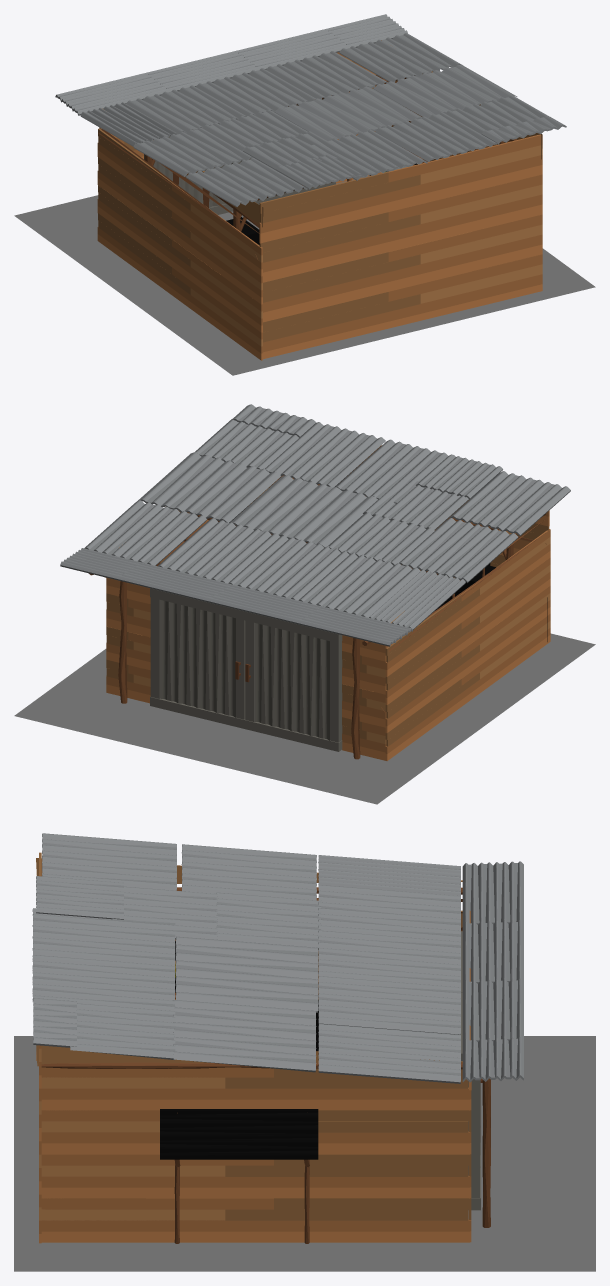
The model's file is bengkeldraft1.fbx.
The picture shows the model from 3 angles, top to bottom: view 1: azimuth 30°, elevation 25°; view 2: azimuth 150°, elevation 25°; view 3: azimuth 270°, elevation 25°; orthographic projection. The views are drawn at different scales.
Visible parts, largest first — view 1: wall, asbes, ground, bambu, pintu kana; view 2: asbes, wall, ground, pintu kana, pintu kiri, bambu; view 3: asbes, wall, ground, bambu2, bambu, pintu kiri.
Part boxes in pixels (x1=…): wall: x1=97, y1=52, x2=542, y2=360; asbes: x1=55, y1=14, x2=566, y2=206; ground: x1=14, y1=175, x2=595, y2=375; bambu: x1=98, y1=40, x2=517, y2=259; pintu kana: x1=144, y1=136, x2=241, y2=214; asbes: x1=60, y1=404, x2=570, y2=646; wall: x1=105, y1=445, x2=550, y2=760; ground: x1=14, y1=633, x2=595, y2=804; pintu kana: x1=244, y1=611, x2=342, y2=751; pintu kiri: x1=150, y1=588, x2=245, y2=728; bambu: x1=89, y1=464, x2=546, y2=759; asbes: x1=32, y1=833, x2=523, y2=1083; wall: x1=36, y1=852, x2=471, y2=1243; ground: x1=14, y1=1036, x2=595, y2=1271; bambu2: x1=160, y1=1109, x2=318, y2=1243; bambu: x1=41, y1=887, x2=490, y2=1227; pintu kiri: x1=460, y1=992, x2=482, y2=1210.
Bounding box in the file's own units: 1041 × 455 × 1086.
